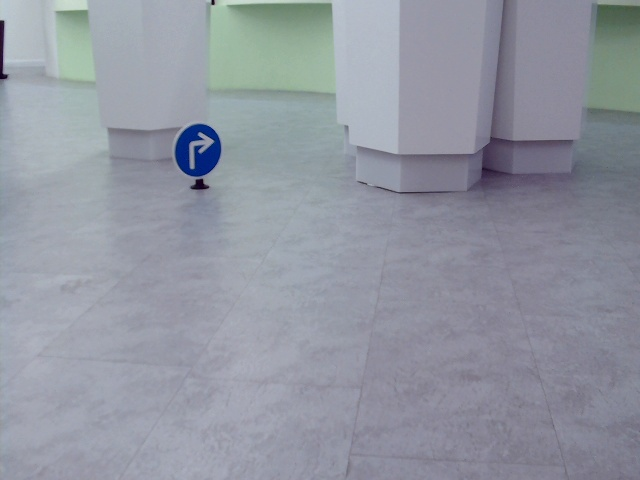turn_right: (184, 132, 213, 168)
